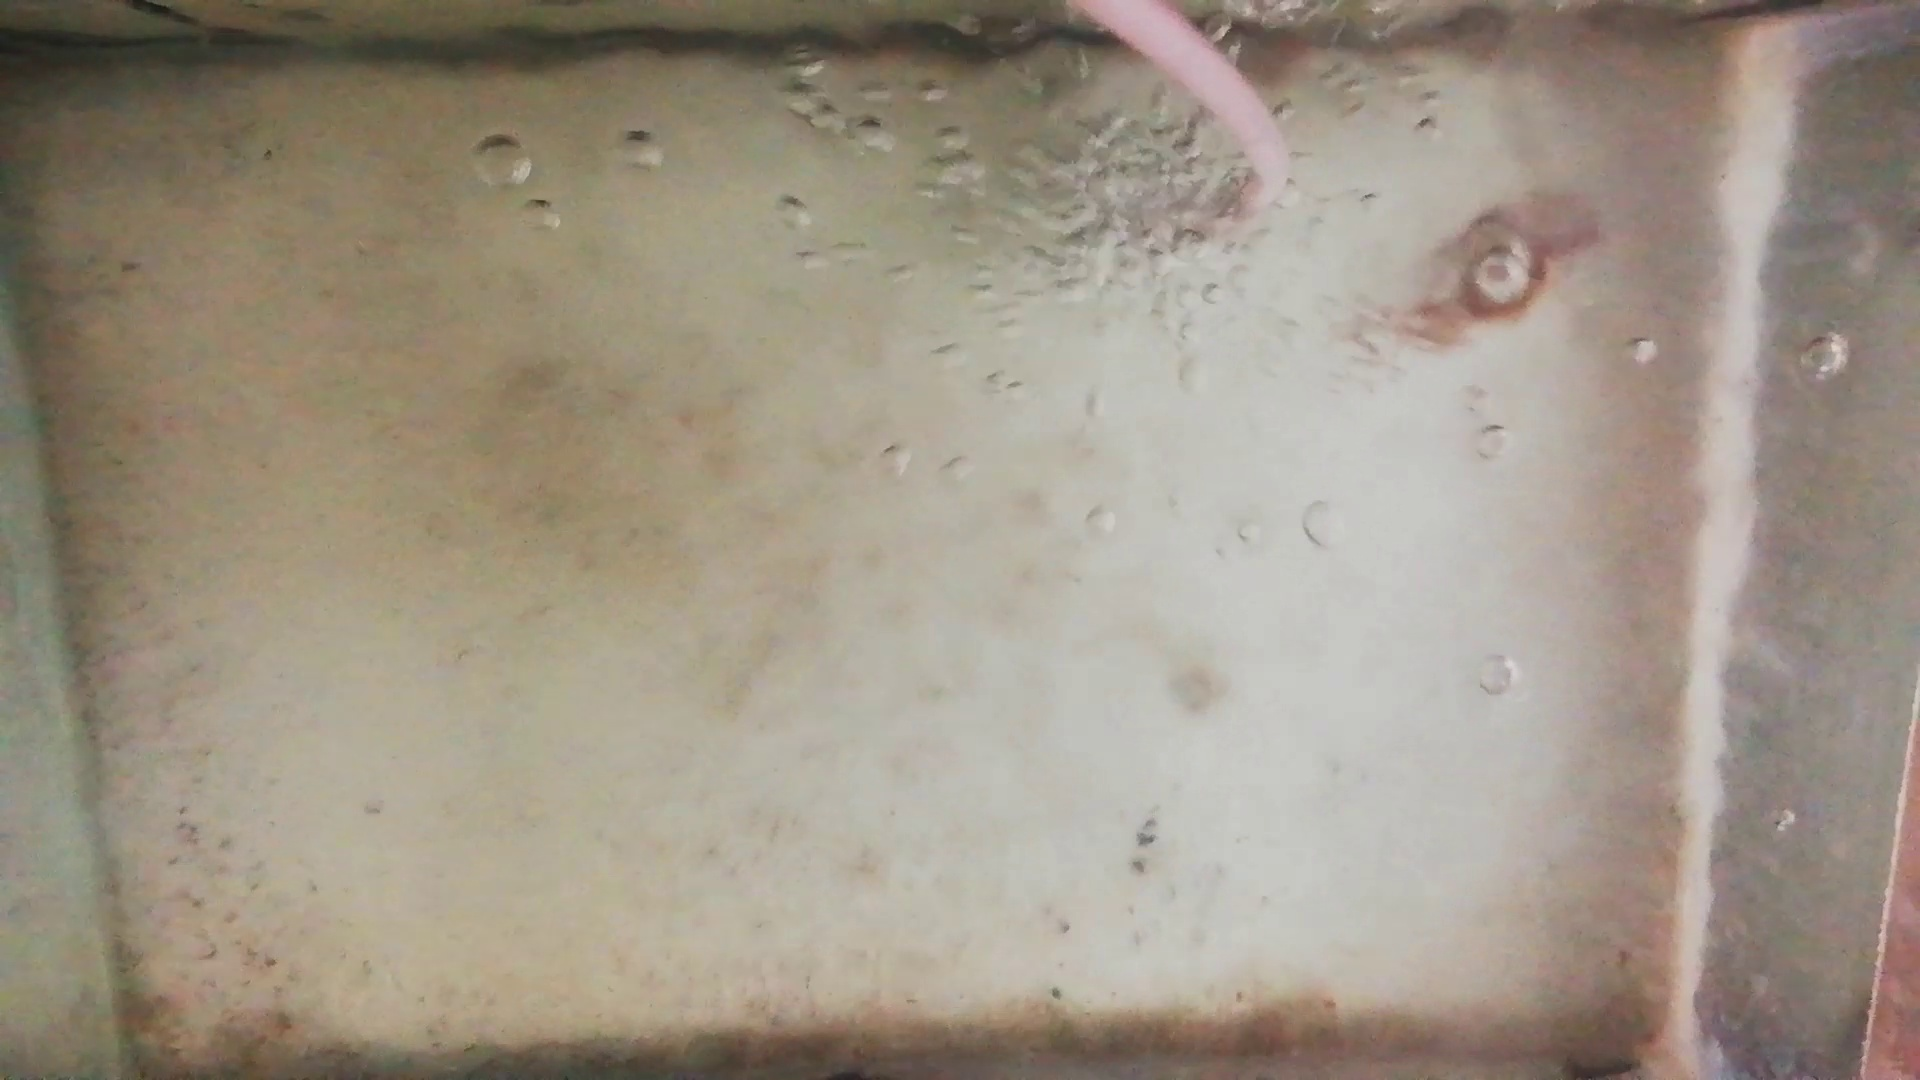fish: (1396, 258, 1551, 328), (1420, 204, 1602, 258)
